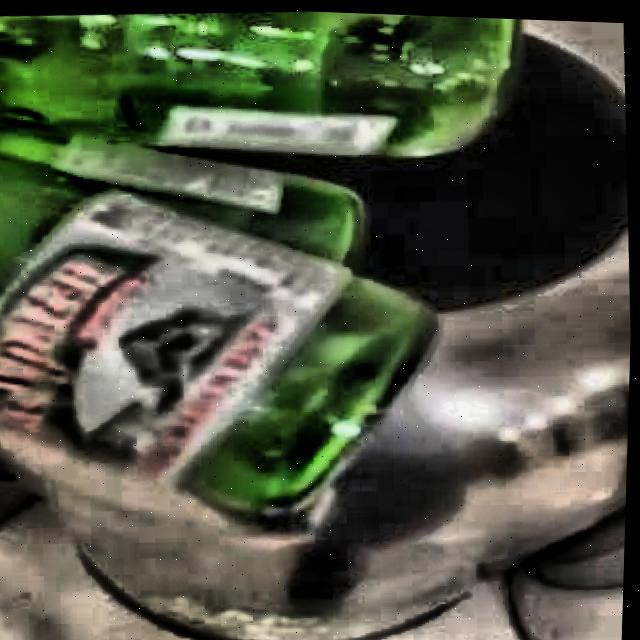glass: (0, 9, 523, 530)
